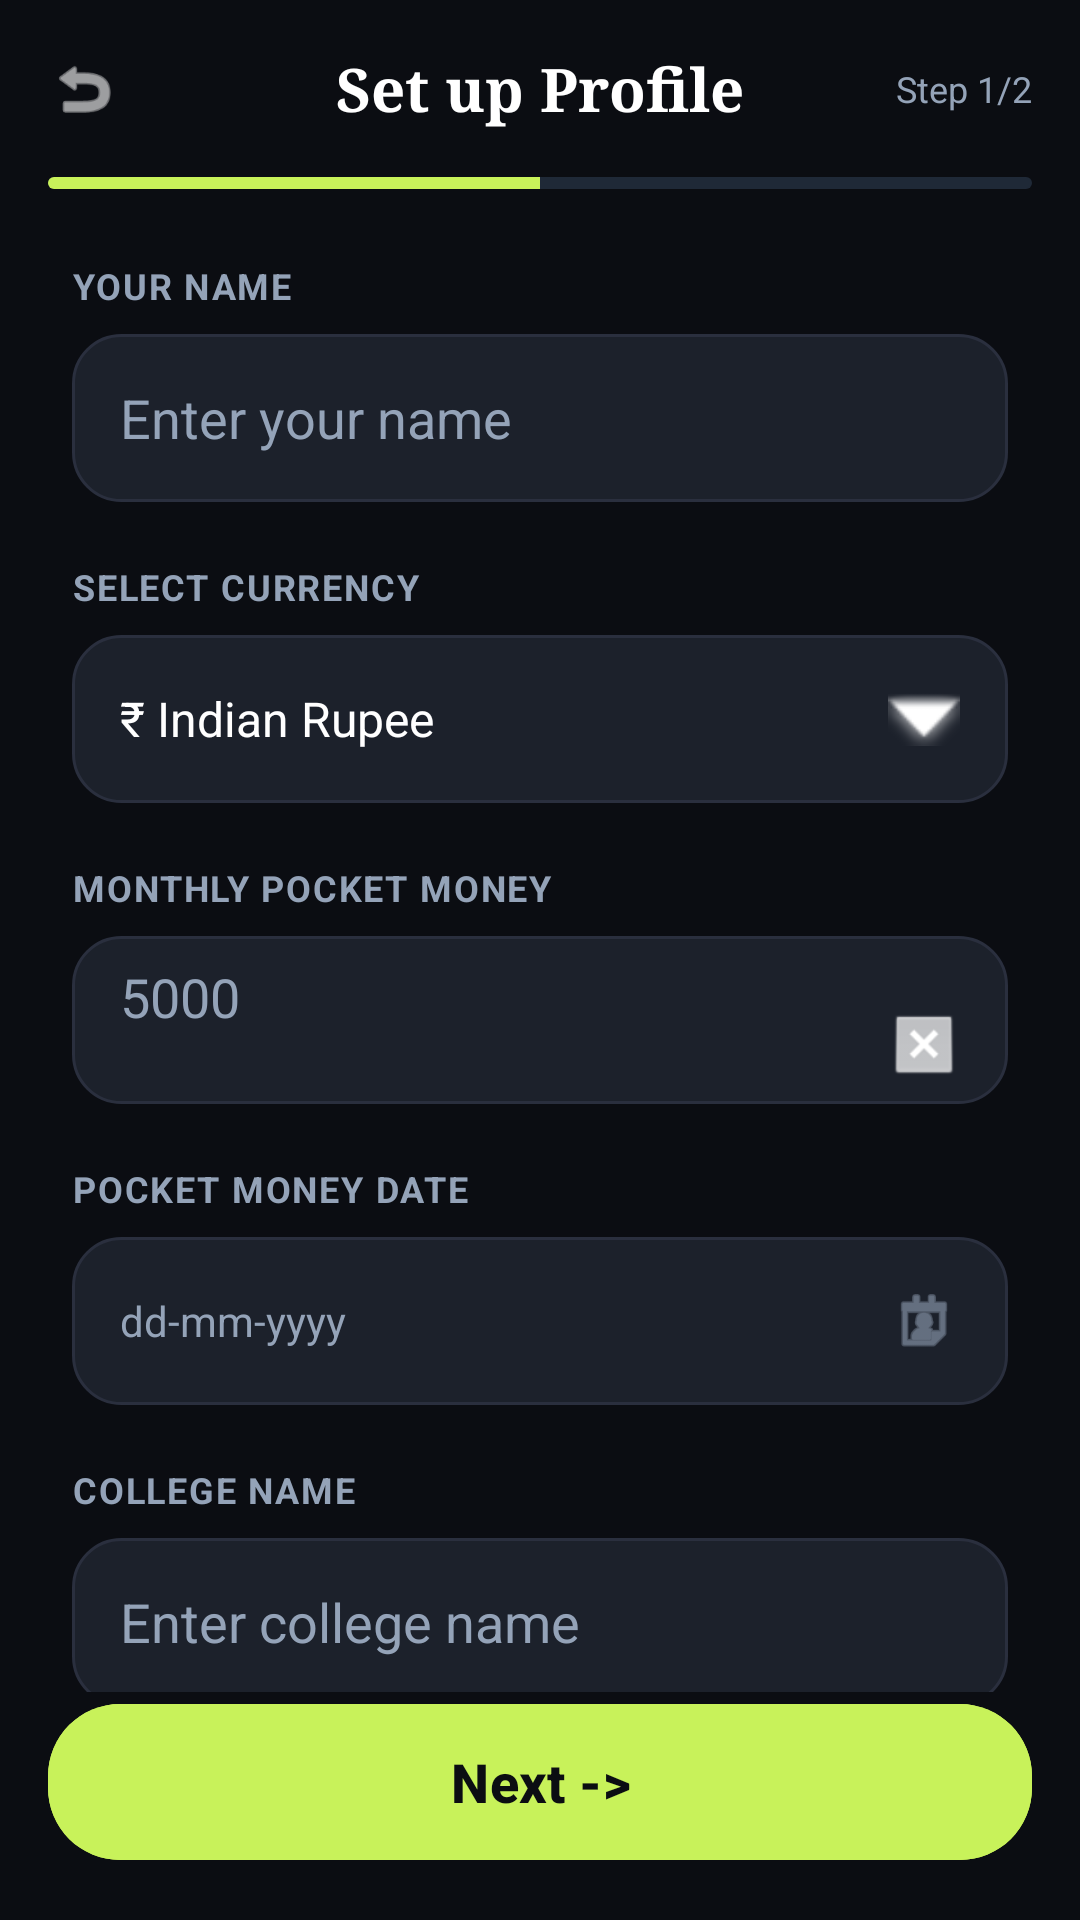

Screen size 1080×1920. Icon name, then its center in pixels as (x=x, y=y):
Back: (x=85, y=89)
Calendar: (x=924, y=1320)
Select: (x=924, y=719)
